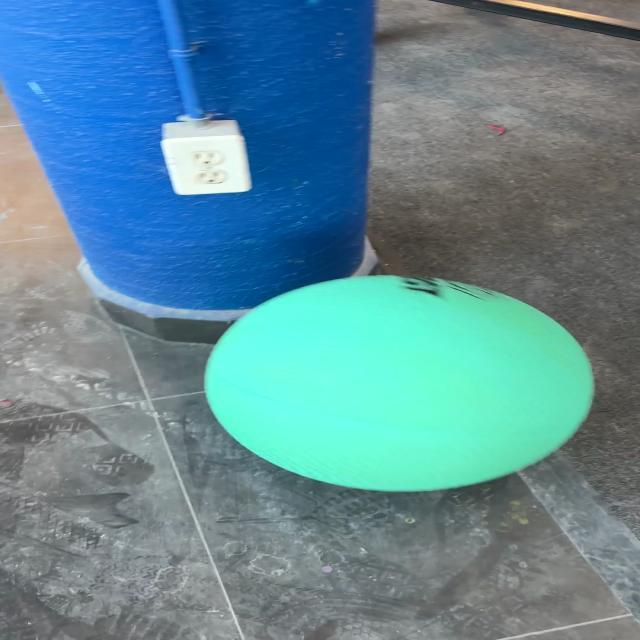Algae: (202, 274, 596, 492)
